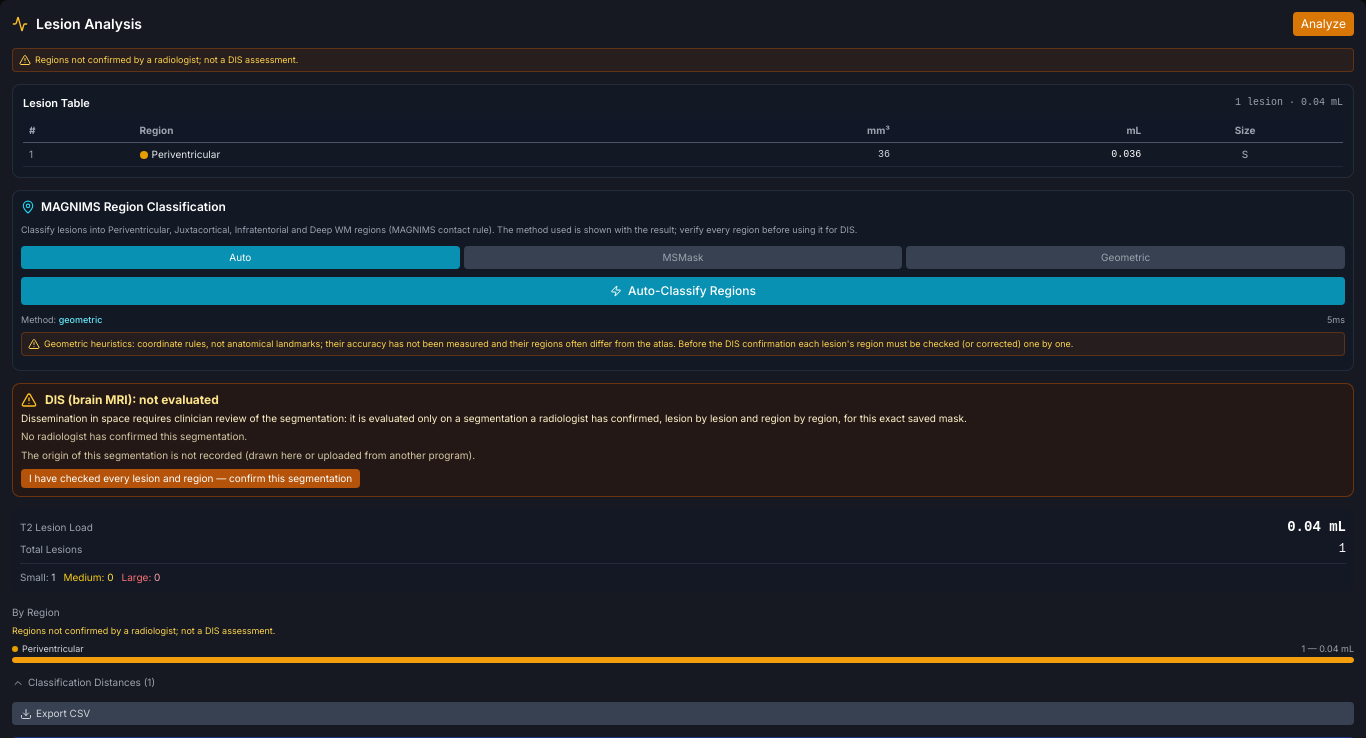
Scenario: B1 (4) / M3: confirm refuses while any lesion of the mask is not drawn › rc071 release m3 refused: a mask value with no entry in the label table
Click the button "confirm this segmentation" at [191, 479], box x1=21 y1=469 x2=360 y2=488
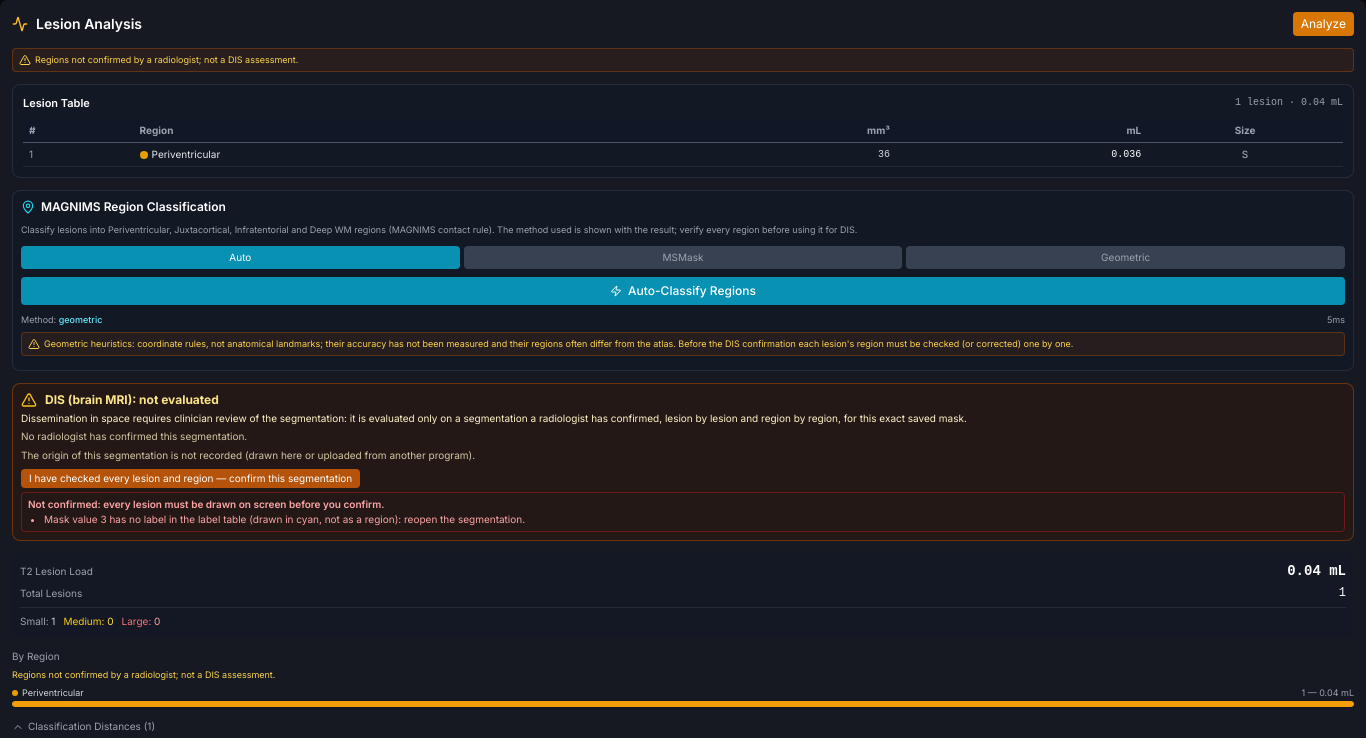
Result: the message with test id "dis-confirm-refused" shows "every lesion must be drawn" at x1=28 y1=498 x2=384 y2=510
Result: the message with test id "dis-confirm-refused" holds "value 3.*no label" at x1=21 y1=492 x2=1345 y2=532
